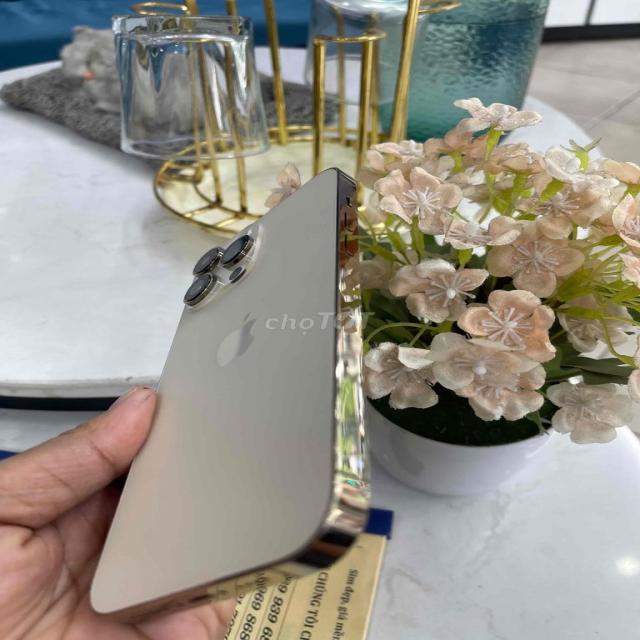gen_12_13: (79, 168, 380, 613)
